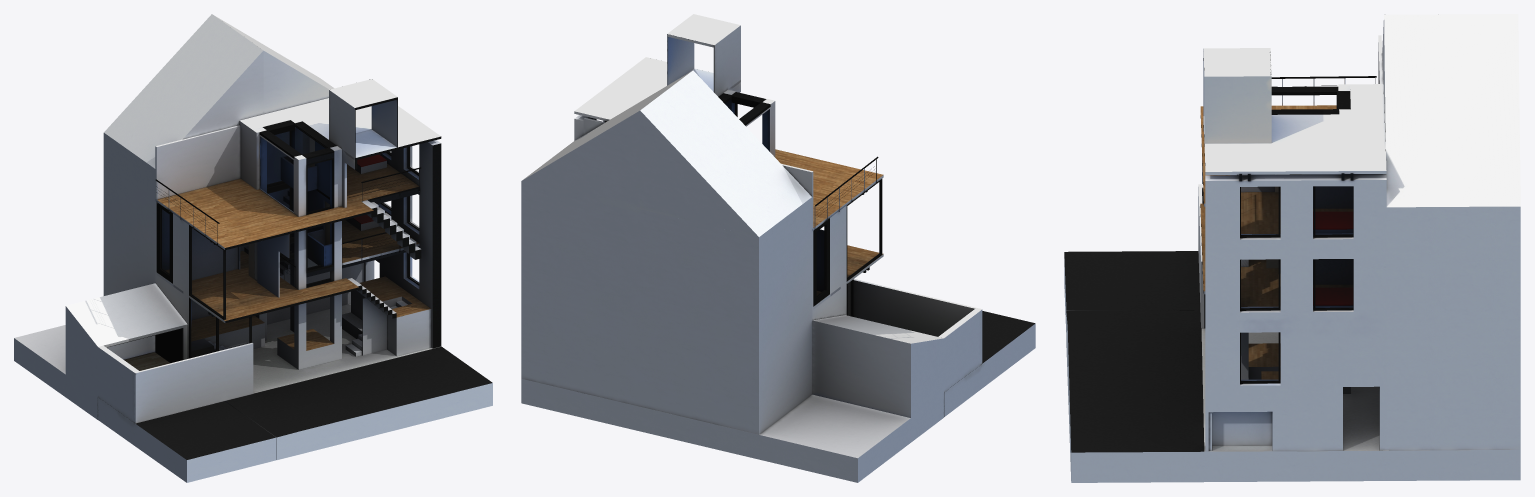
Rendered from vianney_house_2.glb.
3 views of the same model, side by side, from view 1: azimuth 30°, elevation 25°; view 2: azimuth 150°, elevation 25°; view 3: azimuth 270°, elevation 25° (orthographic). The views are drawn at different scales.
Parts seen in each view (by area): view 1: Object003_Object003_mtl_0, Object002_Object002_mtl_0, Object001_Object001_mtl_0, Object004_Object004_mtl_0; view 2: Object004_Object004_mtl_0, Object003_Object003_mtl_0, Object002_Object002_mtl_0, Object001_Object001_mtl_0; view 3: Object004_Object004_mtl_0, Object001_Object001_mtl_0, Object002_Object002_mtl_0, Object003_Object003_mtl_0.
Boxes of the visible parts, x1,y1,x2,y2 form: Object003_Object003_mtl_0: [65, 14, 492, 482]; Object002_Object002_mtl_0: [14, 97, 492, 459]; Object001_Object001_mtl_0: [155, 79, 440, 355]; Object004_Object004_mtl_0: [103, 15, 431, 357]; Object004_Object004_mtl_0: [521, 71, 883, 434]; Object003_Object003_mtl_0: [521, 70, 1035, 482]; Object002_Object002_mtl_0: [605, 92, 1035, 482]; Object001_Object001_mtl_0: [574, 14, 883, 309]; Object004_Object004_mtl_0: [1202, 14, 1520, 450]; Object001_Object001_mtl_0: [1203, 48, 1386, 451]; Object002_Object002_mtl_0: [1064, 58, 1382, 452]; Object003_Object003_mtl_0: [1064, 20, 1520, 482].
Size of what is drawn, in the model's own units: 1435 by 1301 by 1361.
Materials: 4 (4 with a texture image).
